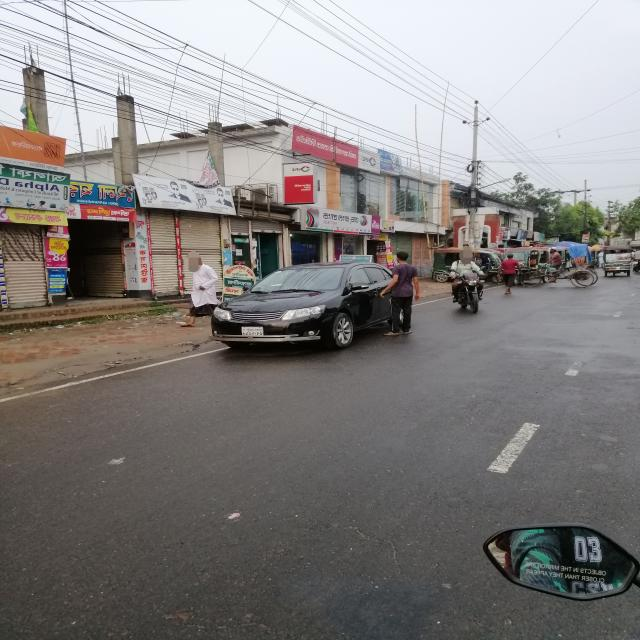Car: (212, 260, 400, 357)
Motorbike: (451, 275, 486, 315)
Rickshaw: (518, 245, 597, 290)
